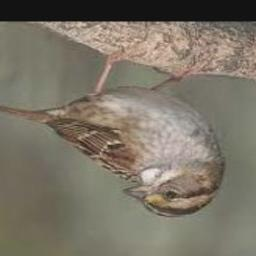Sparrow: (0, 47, 225, 217)
